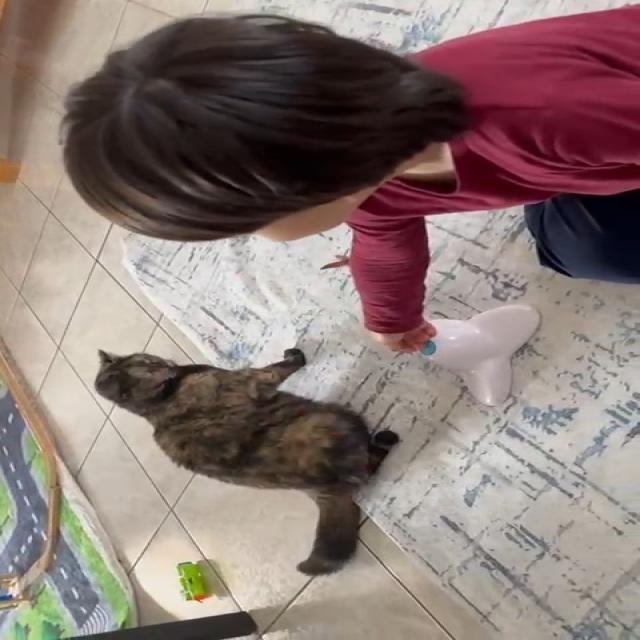authorized: (92, 347, 401, 575)
